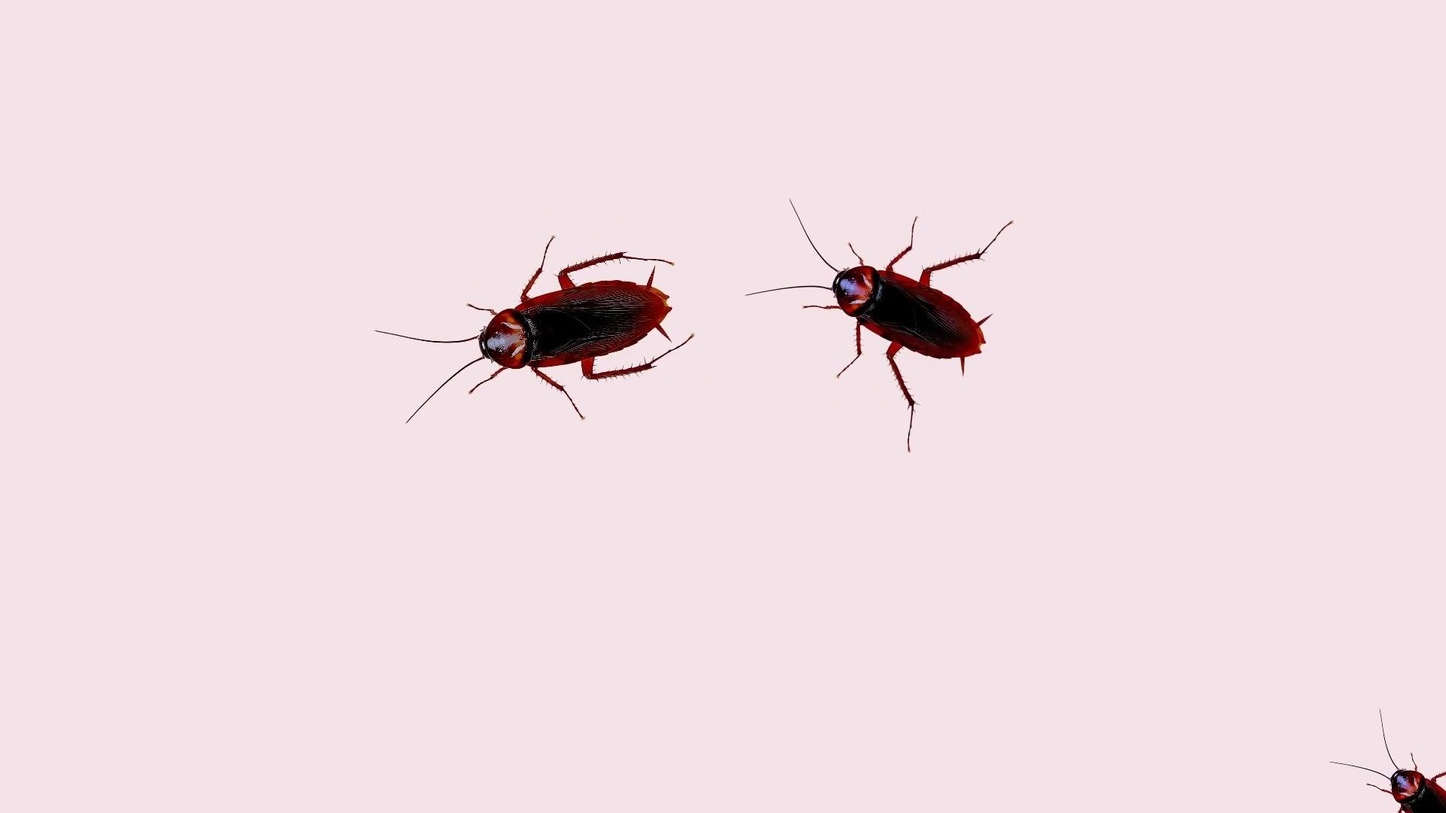cockroach: (426, 249, 683, 423), (787, 221, 987, 422)
